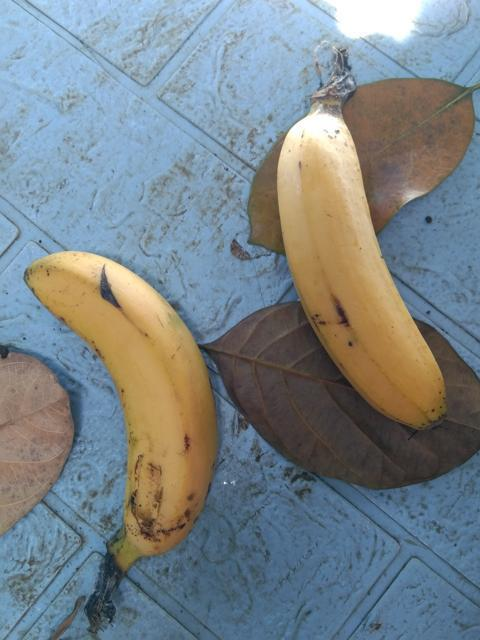freshripe: (248, 75, 459, 499)
ripe: (23, 251, 231, 566)
